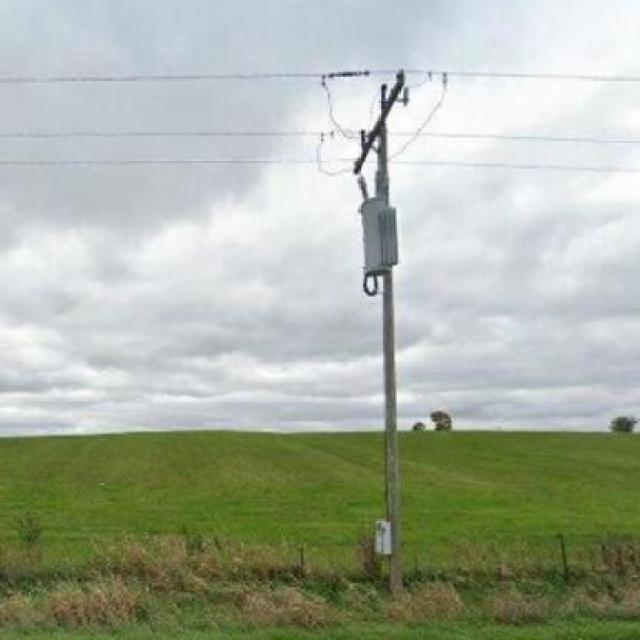pole: (315, 59, 456, 572)
